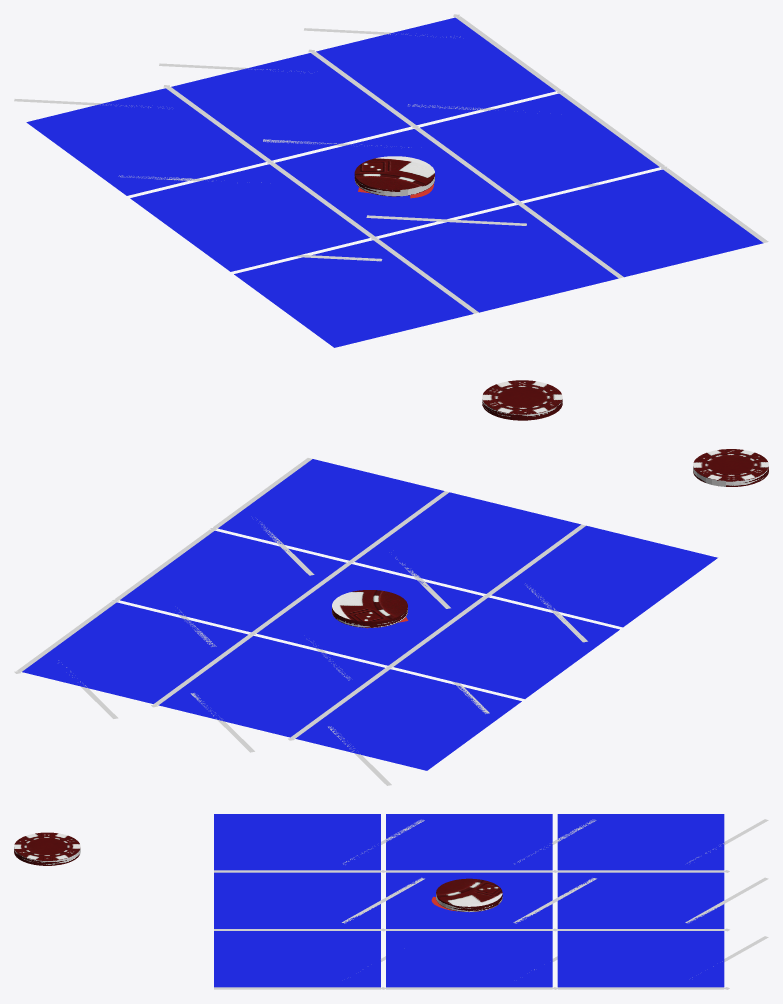
The picture shows the model from 3 angles, top to bottom: view 1: azimuth 30°, elevation 25°; view 2: azimuth 150°, elevation 25°; view 3: azimuth 270°, elevation 25°; orthographic projection. The views are drawn at different scales.
Visible parts, largest first — view 1: number 7, number 9, number 2, number 8, number 6, number 3, number 1, number 4, number 5, chip 1, chip 1_copy; view 2: number 1, number 9, number 6, number 7, number 4, number 3, number 8, number 2, number 5, chip 1, chip 1_copy; view 3: number 9, number 3, number 1, number 8, number 7, number 2, number 4, number 6, number 5, chip 1, chip 1_copy, vertical split.006 (+10 smaller).
Boxes of the visible parts, left/top/right/bottom form: number 7: left=523, top=169, right=763, bottom=277; number 9: left=316, top=17, right=555, bottom=125; number 2: left=130, top=164, right=369, bottom=271; number 8: left=420, top=93, right=659, bottom=201; number 6: left=171, top=53, right=410, bottom=160; number 3: left=26, top=88, right=265, bottom=195; number 1: left=234, top=240, right=473, bottom=347; number 4: left=379, top=205, right=618, bottom=312; number 5: left=275, top=129, right=514, bottom=236; chip 1: left=482, top=380, right=562, bottom=420; chip 1_copy: left=354, top=156, right=434, bottom=196; number 1: left=491, top=525, right=717, bottom=627; number 9: left=22, top=602, right=248, bottom=703; number 6: left=158, top=636, right=384, bottom=737; number 7: left=218, top=459, right=444, bottom=560; number 4: left=355, top=492, right=580, bottom=593; number 3: left=295, top=669, right=521, bottom=770; number 8: left=120, top=530, right=346, bottom=632; number 2: left=394, top=597, right=619, bottom=698; number 5: left=257, top=564, right=482, bottom=665; chip 1: left=693, top=449, right=768, bottom=486; chip 1_copy: left=332, top=590, right=407, bottom=627; number 9: left=557, top=931, right=724, bottom=987; number 3: left=557, top=814, right=724, bottom=870; number 1: left=214, top=814, right=380, bottom=870; number 8: left=386, top=931, right=552, bottom=987; number 7: left=214, top=931, right=380, bottom=987; number 2: left=386, top=814, right=552, bottom=870; number 4: left=214, top=872, right=380, bottom=928; number 6: left=557, top=872, right=724, bottom=928; number 5: left=386, top=872, right=552, bottom=928; chip 1: left=14, top=832, right=80, bottom=865; chip 1_copy: left=436, top=878, right=502, bottom=912; vertical split.006: left=557, top=987, right=724, bottom=989.
Bounding box in the file's own units: 24.96 × 0.7 × 45.27.
Materials: 5 (1 with a texture image).
